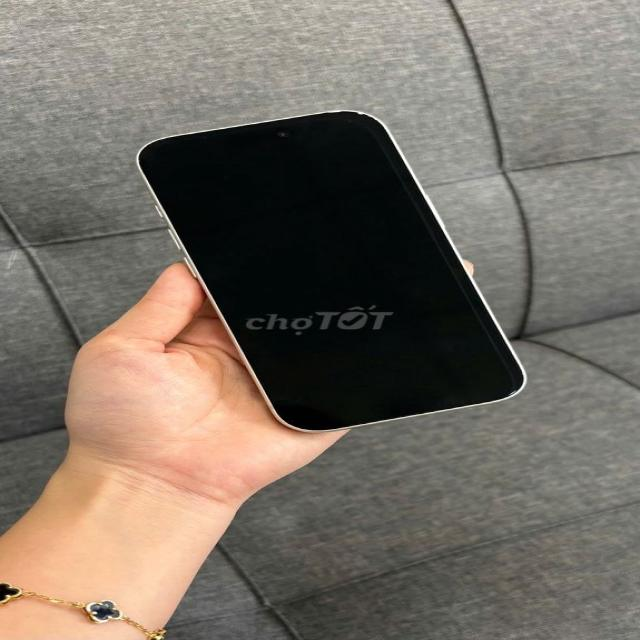gen_17: (119, 110, 555, 432)
